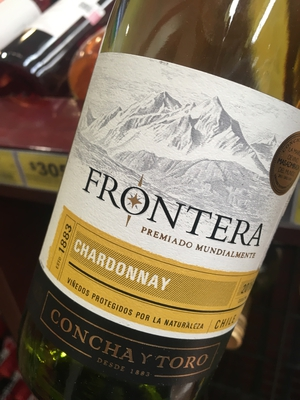frontera chardonnay: (26, 28, 296, 400)
